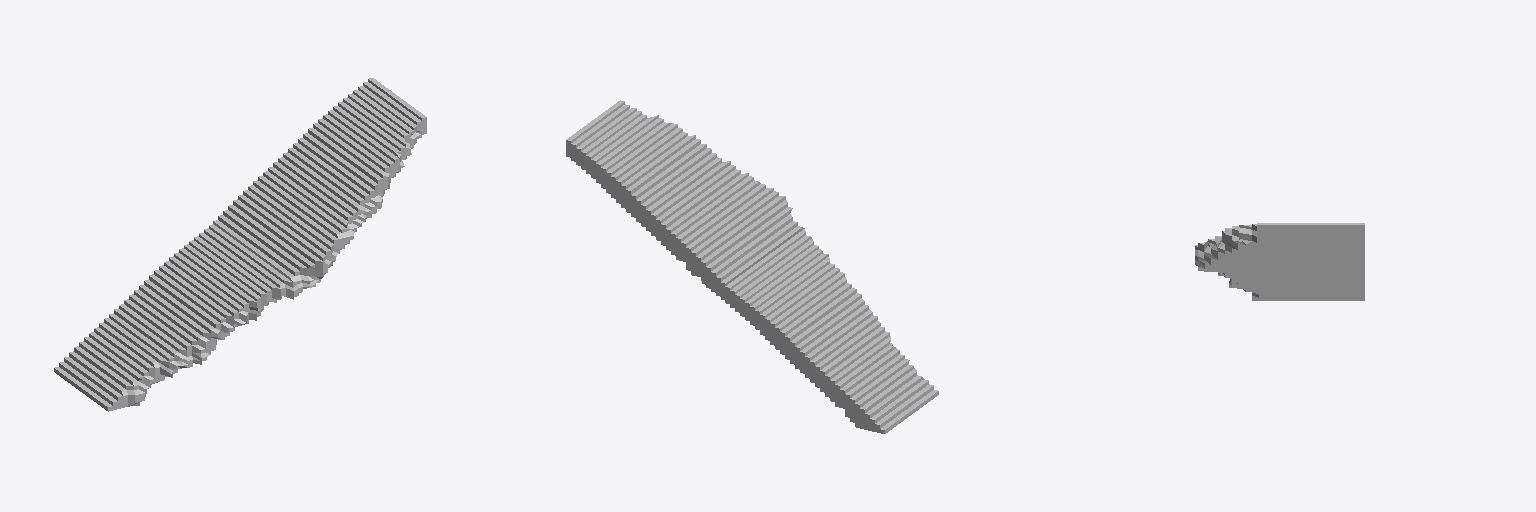
Rendered from stairs2.obj.
The picture shows the model from 3 angles: view 1: azimuth 30°, elevation 25°; view 2: azimuth 150°, elevation 25°; view 3: azimuth 270°, elevation 25°; orthographic projection.
Parts seen in each view (by area): view 1: Cube_Cube.020; view 2: Cube_Cube.020; view 3: Cube_Cube.020.
Part boxes in pixels (left/top/right/bottom): Cube_Cube.020: left=54, top=78, right=426, bottom=411; Cube_Cube.020: left=566, top=100, right=938, bottom=433; Cube_Cube.020: left=1195, top=223, right=1364, bottom=300.
Size of the model in its own units: 3.84 by 2.5 by 1.78.